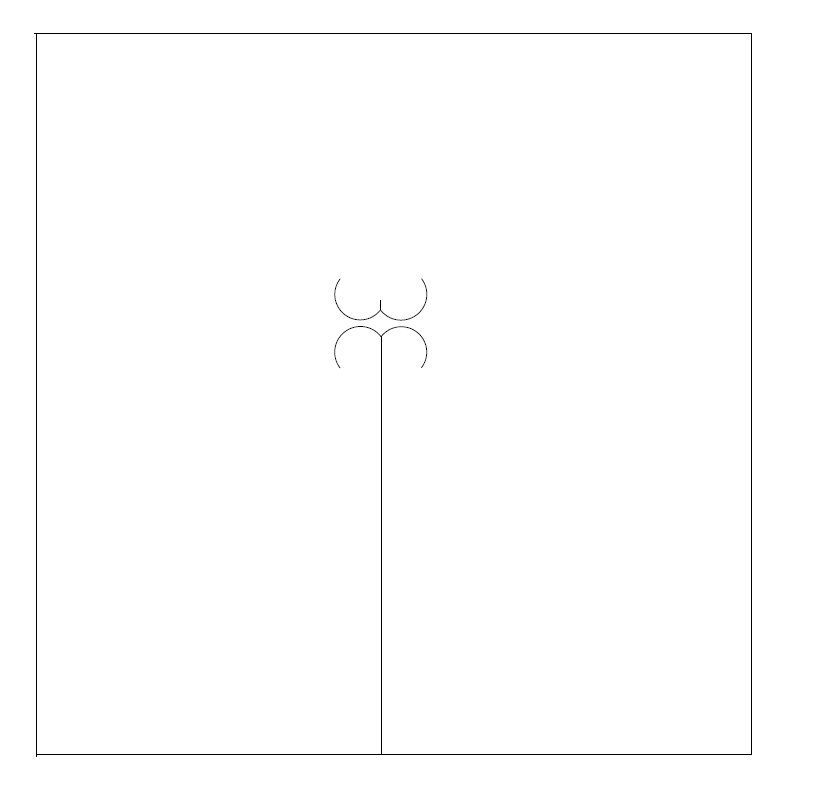STA_SERV: (306, 262, 455, 385)
